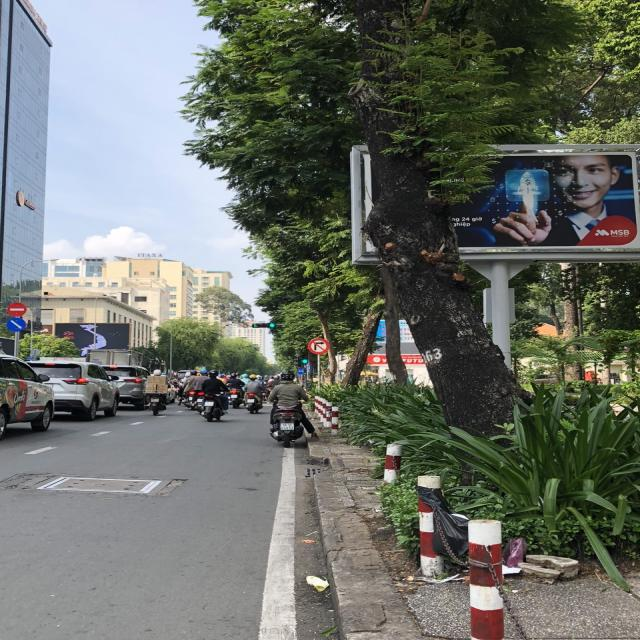Bien bao cam re phai: (304, 335, 331, 355), (6, 300, 30, 317)
